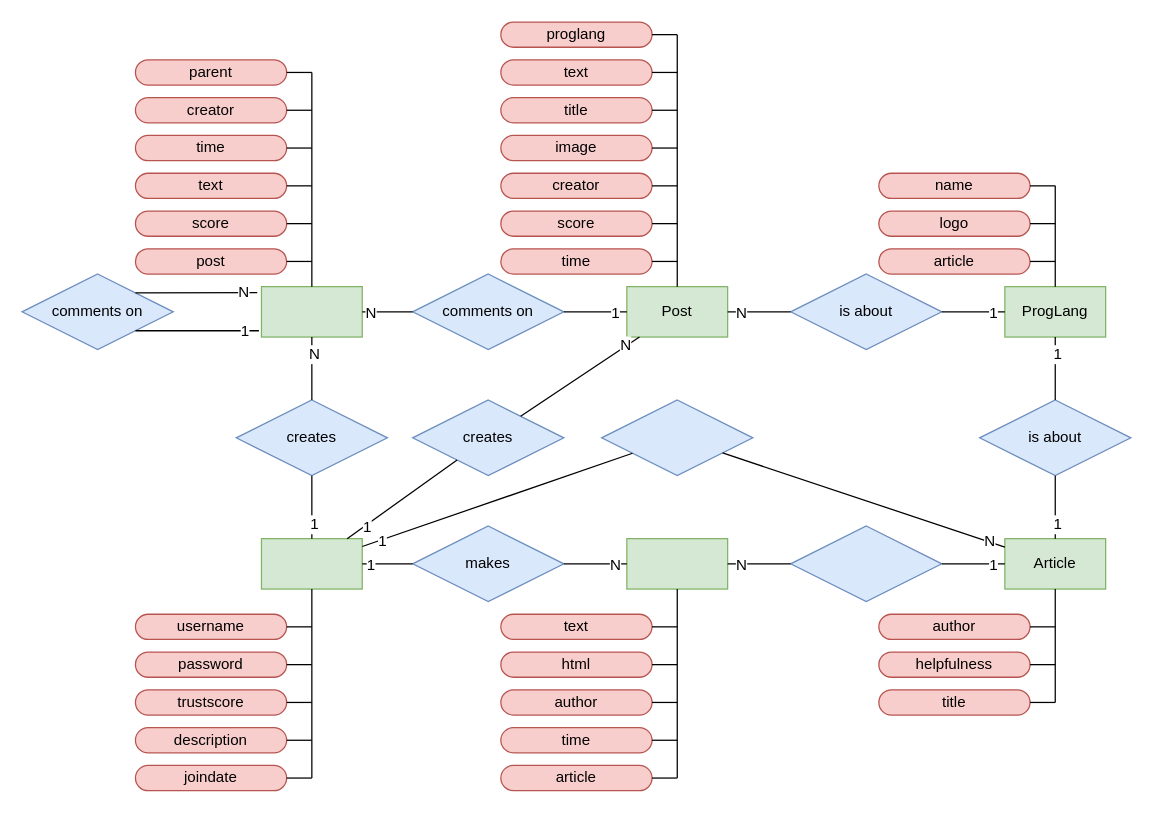
The diagram is 1153 pixels wide and 813 high, and some of its shapes have lost their labels. The box of each missing label's shape, as (x1, y1, x2, y2) in pixels:
Comment: (260, 285, 362, 337)
is made on: (789, 525, 942, 602)
User: (260, 537, 362, 589)
Version: (626, 537, 728, 589)
writes: (600, 399, 753, 476)
